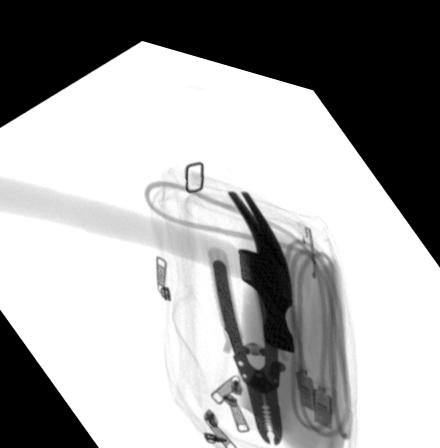Hammer: (0, 175, 294, 334)
Pliers: (205, 231, 287, 427)
